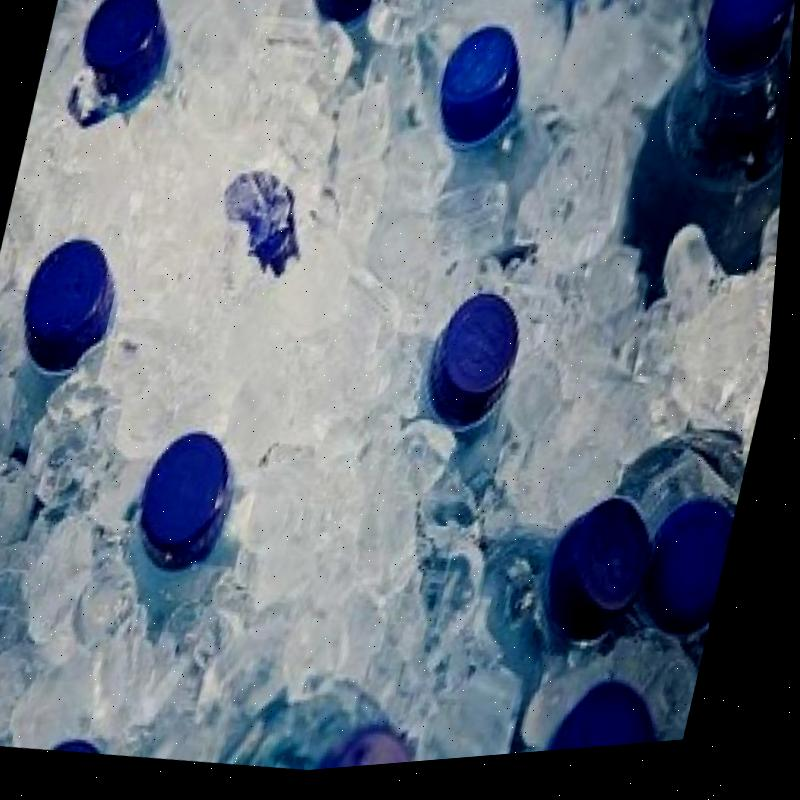botella: (612, 0, 798, 340), (0, 221, 167, 530), (85, 419, 285, 663), (472, 483, 671, 722), (382, 286, 556, 544), (595, 413, 765, 659), (400, 20, 568, 262), (56, 0, 187, 118), (274, 0, 412, 112), (294, 689, 450, 778), (205, 166, 318, 286), (543, 676, 699, 762), (544, 0, 630, 27), (50, 731, 119, 761)
